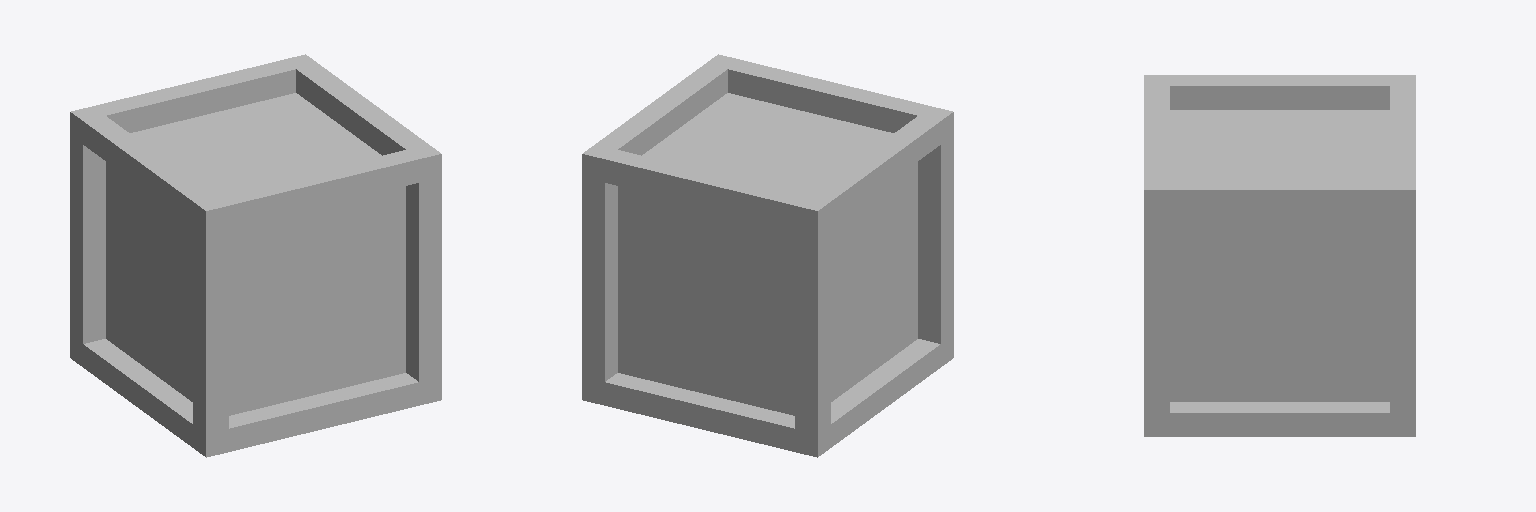
Rendered from Time cube.obj.
3 views of the same model, side by side, from view 1: azimuth 30°, elevation 25°; view 2: azimuth 150°, elevation 25°; view 3: azimuth 270°, elevation 25° (orthographic).
Visible parts, largest first — view 1: Cube; view 2: Cube; view 3: Cube.
Boxes of the visible parts, x1,y1,x2,y2 form: Cube: [70, 54, 441, 457]; Cube: [582, 54, 953, 457]; Cube: [1144, 75, 1415, 436].
Size of the model in its own units: 3.52 by 3.52 by 3.52.